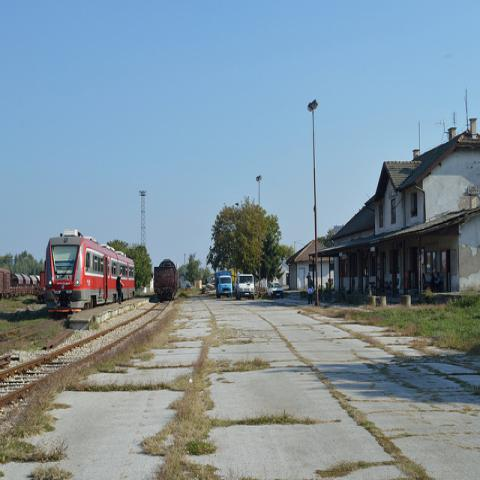car: (268, 282, 283, 299)
truck: (214, 270, 233, 299), (235, 274, 254, 300)
